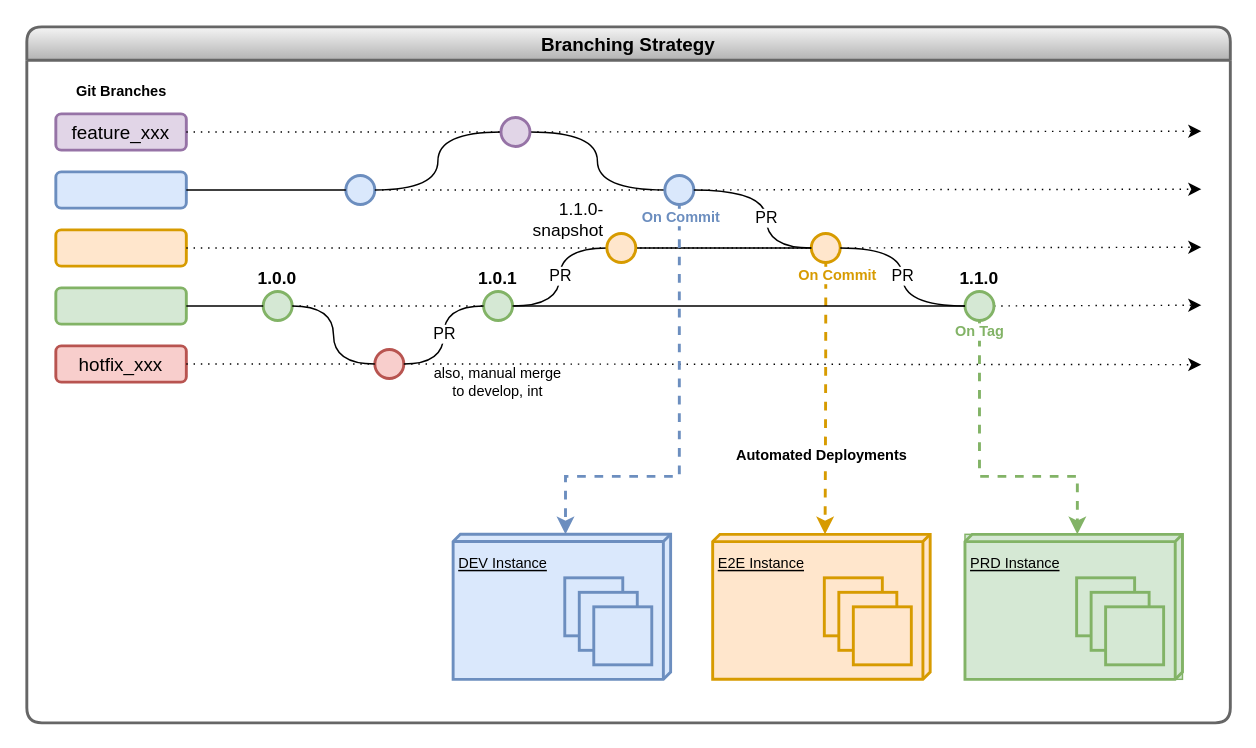
Some shapes in this 1256 by 748 pixel diagram are drawn without their labels. Each missing label, with the centre of its shape:
1.0.1-snapshot: pixel 360 189
develop: pixel 120 189
int: pixel 120 247
master: pixel 120 305
